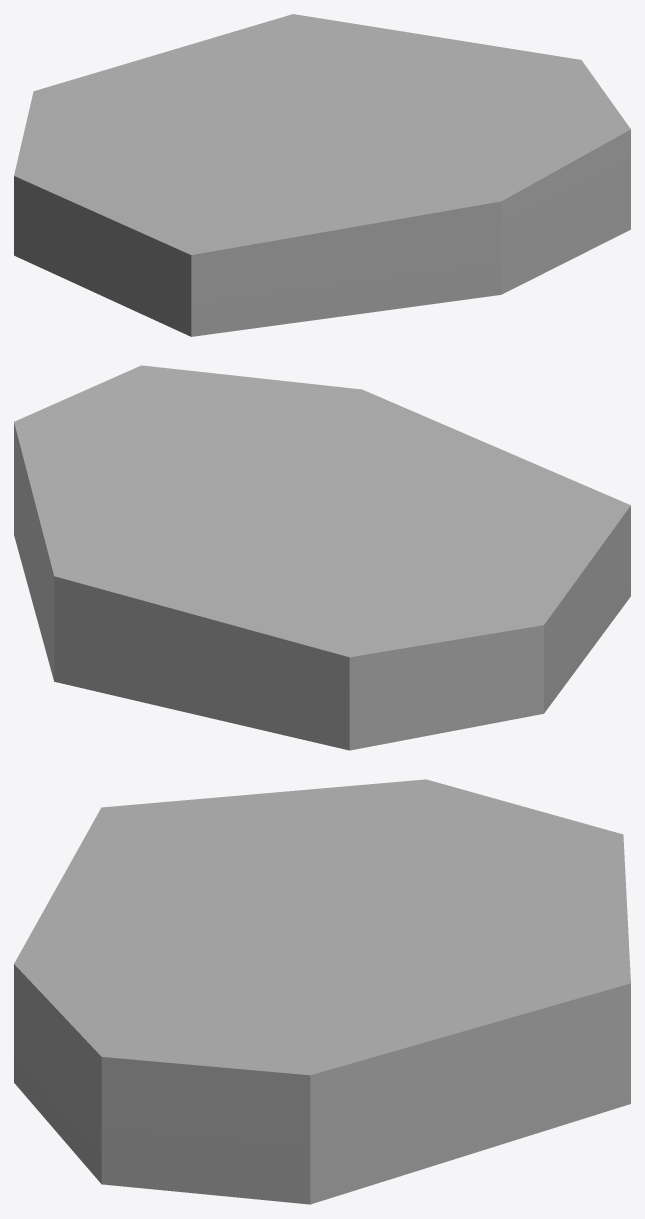
The model's file is stone flat 6.fbx.
The picture shows the model from 3 angles, top to bottom: view 1: azimuth 30°, elevation 25°; view 2: azimuth 150°, elevation 25°; view 3: azimuth 270°, elevation 25°; orthographic projection. The views are drawn at different scales.
Visible parts, largest first — view 1: stone flat 6; view 2: stone flat 6; view 3: stone flat 6.
Part boxes in pixels (x1,y1,x2,y2): stone flat 6: [14, 14, 630, 336]; stone flat 6: [14, 365, 630, 750]; stone flat 6: [14, 779, 630, 1204].
Size of the model in its own units: 61.65 by 11.47 by 49.64.
